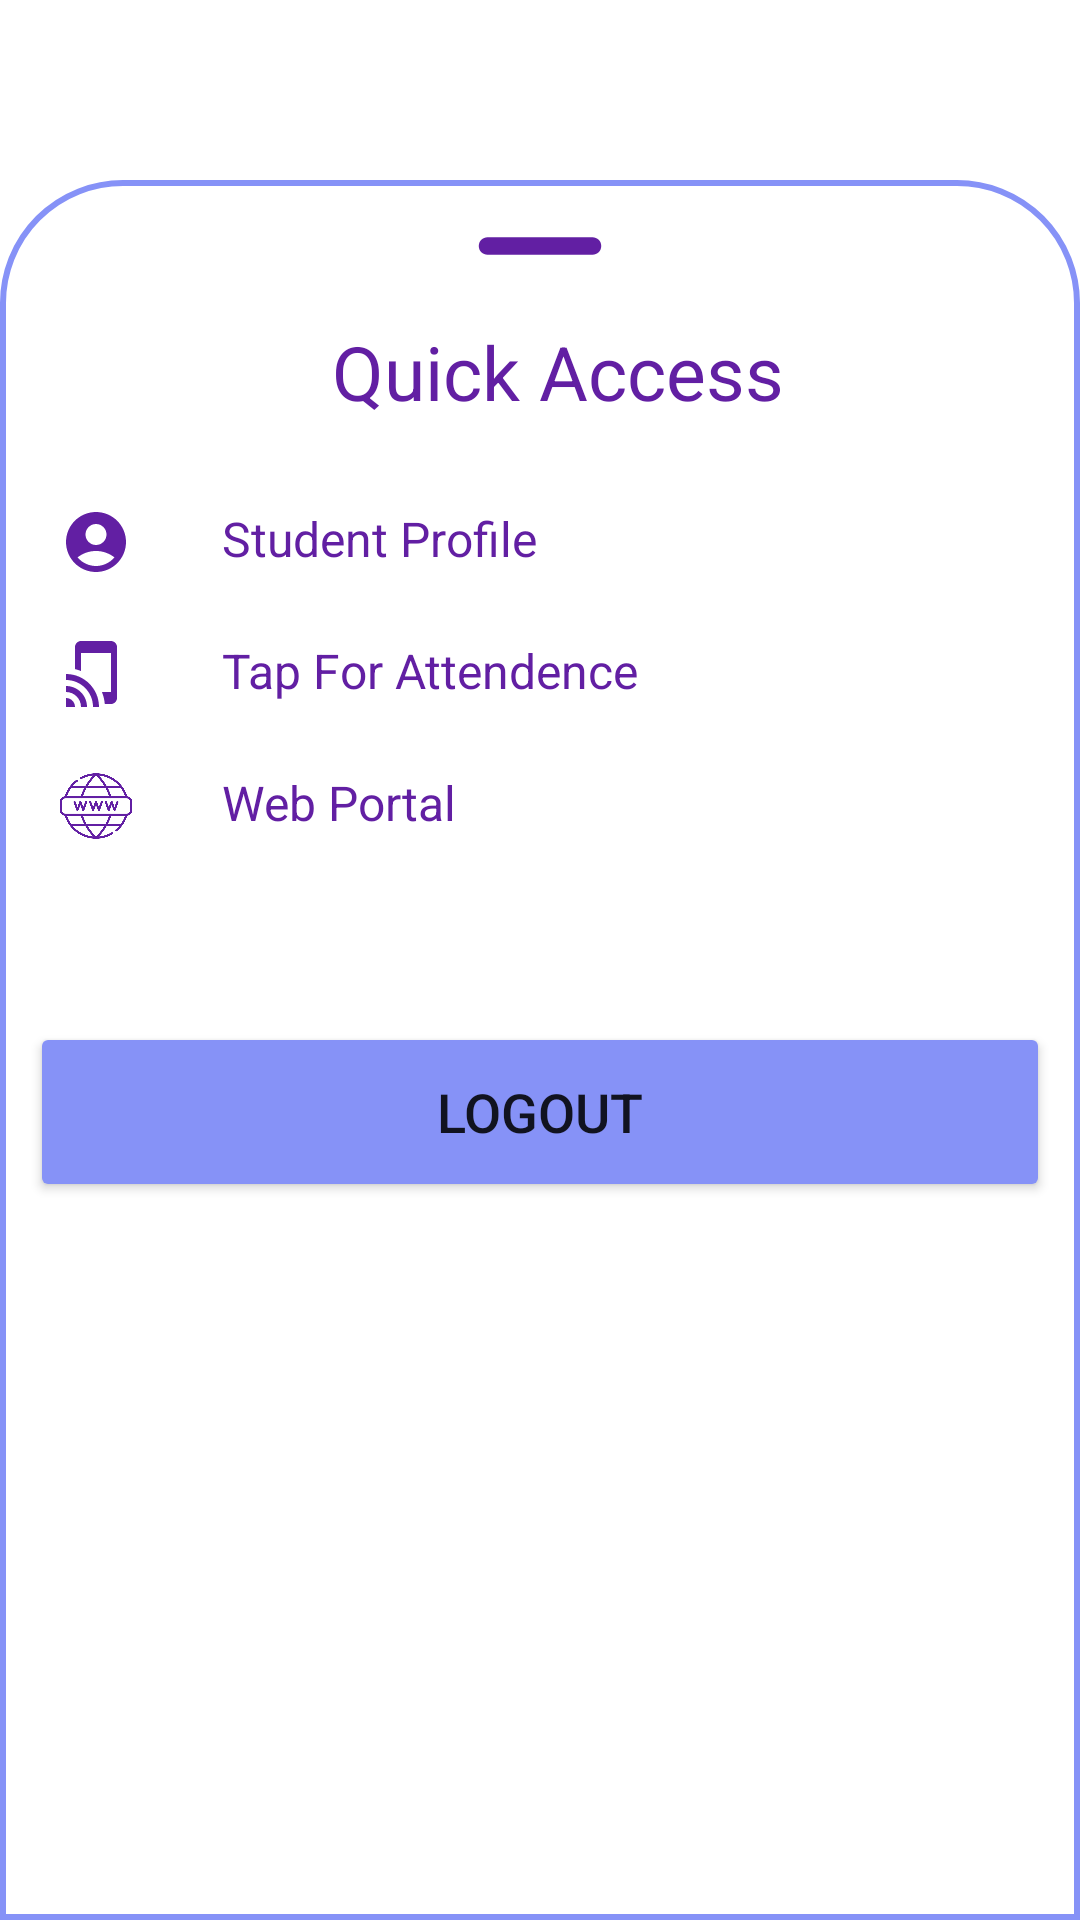

Named icons in this screenshot (1080*1920) and their centers, [x,y]:
account circle: [96,542]
tap and play: [91,674]
